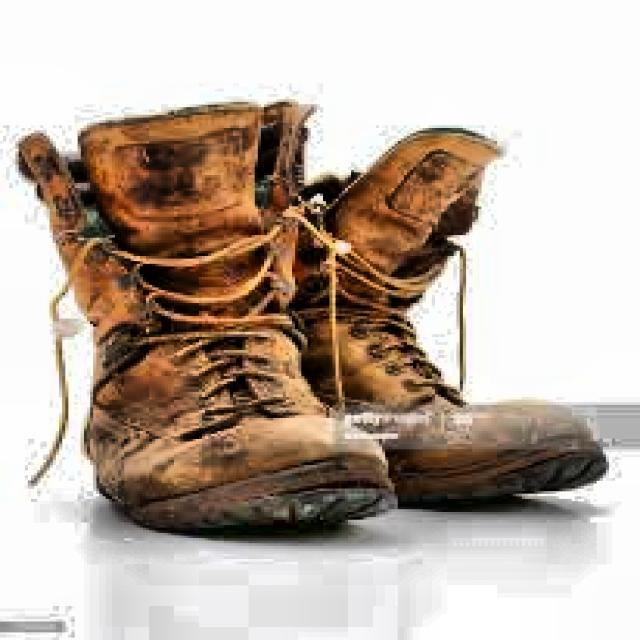shoes: (9, 84, 616, 569)
